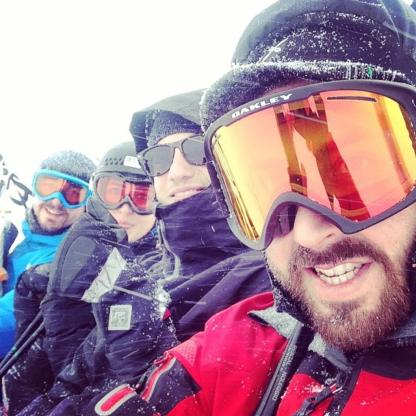Helmet: (93, 138, 148, 178)
